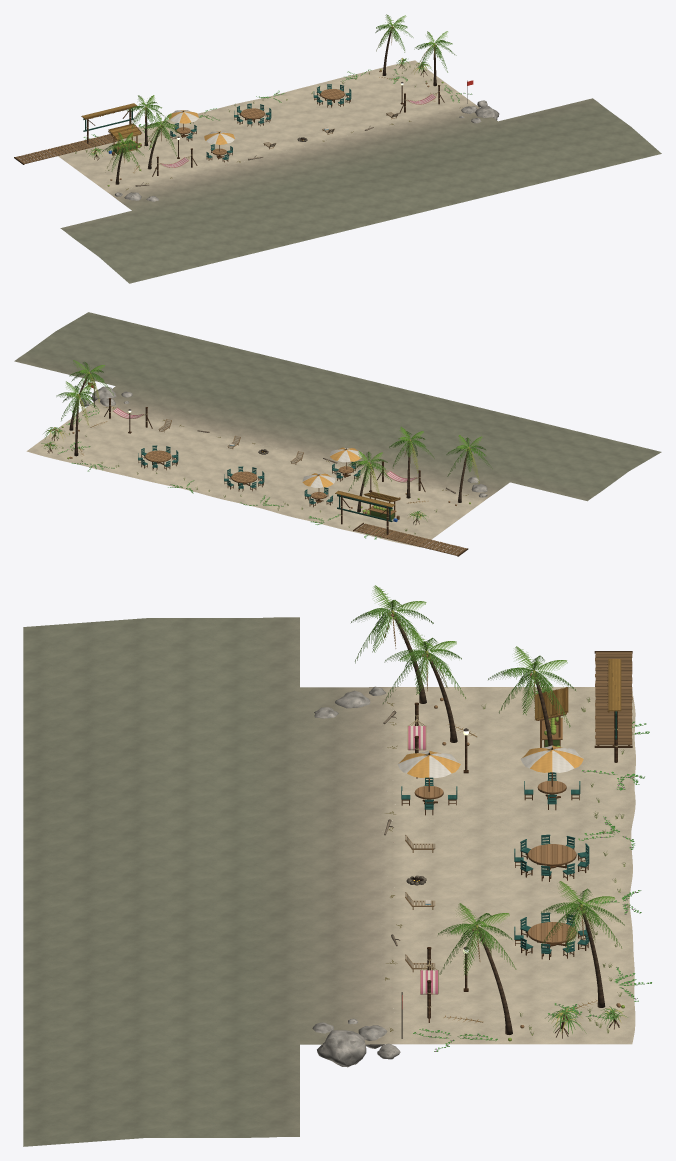
Rendered from LM_ENV_Beach.glb.
The picture shows the model from 3 angles, top to bottom: view 1: azimuth 30°, elevation 25°; view 2: azimuth 150°, elevation 25°; view 3: azimuth 270°, elevation 25°; orthographic projection. The views are drawn at different scales.
Visible parts, largest first — view 1: beach | sand terrain, beach | Palm frond, beach | Boardwalk plank, beach | Chair teal, beach | Parasol canvas + Parasol band, beach | Granite boulder, beach | Palm frond young, beach | Table top, beach | Palm trunk, beach | Attap thatch, beach | Coconut post; view 2: beach | sand terrain, beach | Palm frond, beach | Boardwalk plank, beach | Chair teal, beach | Palm frond young, beach | Parasol canvas + Parasol band, beach | Palm trunk, beach | Granite boulder, beach | Table top, beach | Coconut post, beach | Palm frond old, beach | Tapak kuda leaf (+2 smaller); view 3: beach | sand terrain, beach | Palm frond, beach | Granite boulder, beach | Boardwalk plank, beach | Parasol canvas + Parasol band, beach | Palm frond young, beach | Palm trunk, beach | Chair teal, beach | Table top, beach | Tapak kuda leaf, beach | Attap thatch, beach | Table leg (+1 smaller).
Boxes of the visible parts, x1,y1,x2,y2 form: beach | sand terrain: (52, 60, 661, 283); beach | Palm frond: (102, 20, 456, 171); beach | Boardwalk plank: (15, 134, 117, 163); beach | Chair teal: (170, 84, 351, 159); beach | Parasol canvas + Parasol band: (168, 110, 234, 144); beach | Granite boulder: (115, 100, 499, 201); beach | Palm frond young: (117, 14, 447, 144); beach | Table top: (177, 89, 344, 154); beach | Palm trunk: (115, 29, 436, 184); beach | Attap thatch: (81, 103, 141, 140); beach | Coconut post: (87, 60, 444, 176); beach | sand terrain: (14, 312, 661, 547); beach | Palm frond: (56, 362, 492, 491); beach | Boardwalk plank: (355, 523, 466, 555); beach | Chair teal: (138, 445, 360, 504); beach | Palm frond young: (65, 360, 482, 465); beach | Parasol canvas + Parasol band: (302, 447, 362, 487); beach | Palm trunk: (69, 374, 467, 512); beach | Granite boulder: (80, 386, 487, 497); beach | Table top: (145, 450, 353, 498); beach | Coconut post: (47, 399, 425, 534); beach | Palm frond old: (77, 371, 479, 495); beach | Tapak kuda leaf: (58, 410, 380, 539); beach | sand terrain: (23, 617, 635, 1146); beach | Palm frond: (351, 600, 624, 975); beach | Granite boulder: (312, 686, 400, 1067); beach | Boardwalk plank: (595, 652, 632, 744); beach | Parasol canvas + Parasol band: (397, 745, 583, 777); beach | Palm frond young: (372, 585, 614, 927); beach | Palm trunk: (393, 615, 605, 1034); beach | Chair teal: (401, 772, 589, 953); beach | Table top: (415, 780, 576, 942); beach | Tapak kuda leaf: (413, 721, 651, 1051); beach | Attap thatch: (534, 659, 621, 720); beach | Table leg: (401, 794, 588, 959).
Bounding box in the file's own units: 100 × 12.68 × 51.17.
54 materials, 31 textured.
